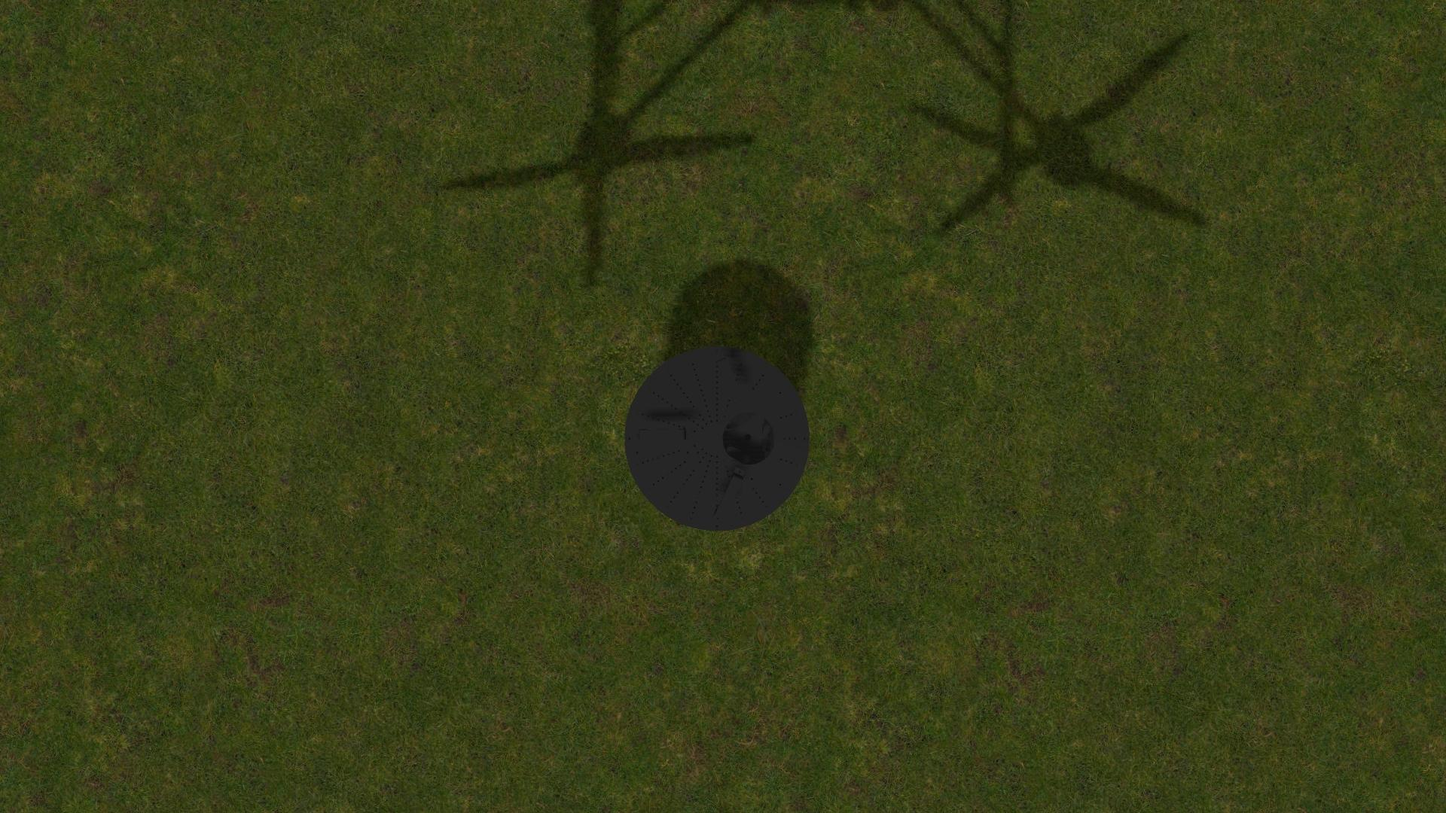alca: (711, 467, 745, 525), (714, 352, 745, 408), (634, 428, 692, 441)
armadilha: (624, 345, 809, 532)
